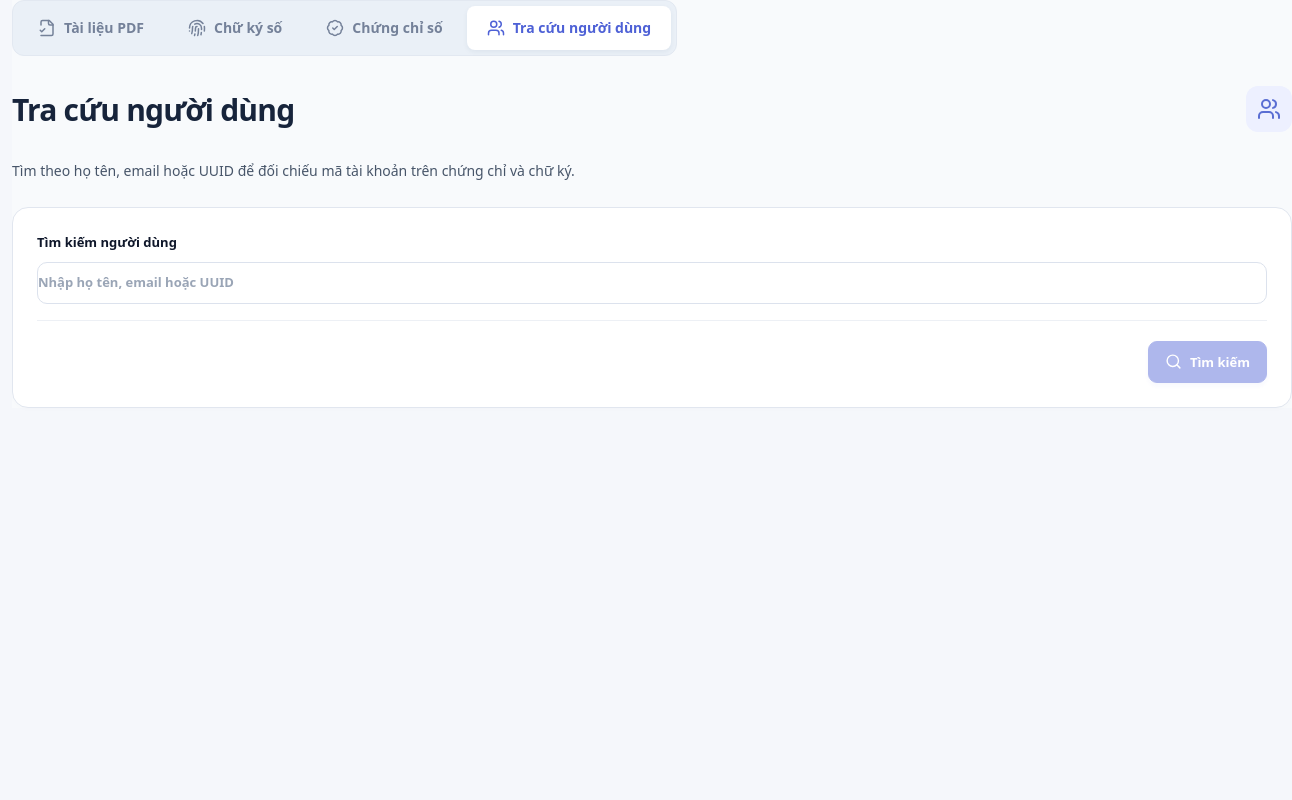
it: shows no results and allows retrying a failed request
Type "missing" into the search field labelled "Tìm kiếm người dùng" at point(652, 283), box [37,262,1267,304]
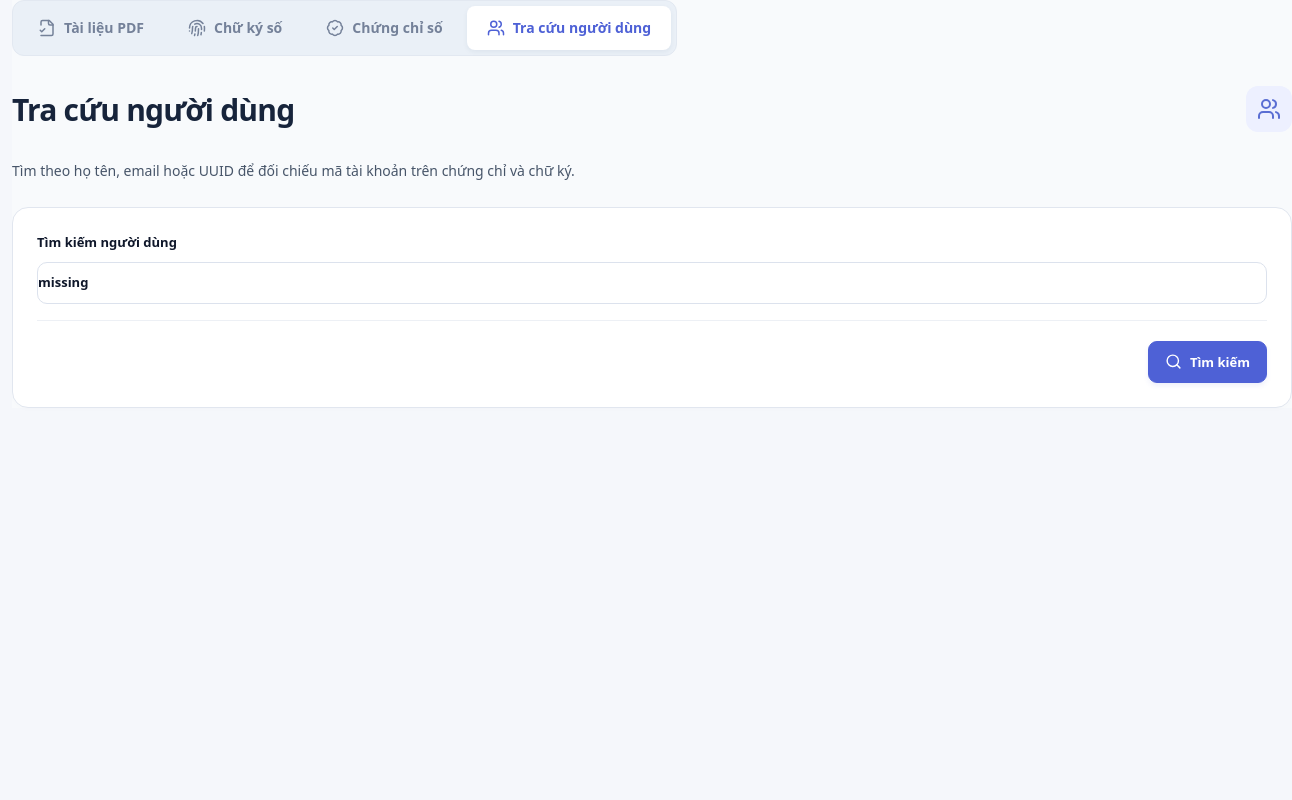
Click the button "Tìm kiếm" at point(1207, 362), box [1148,341,1267,383]
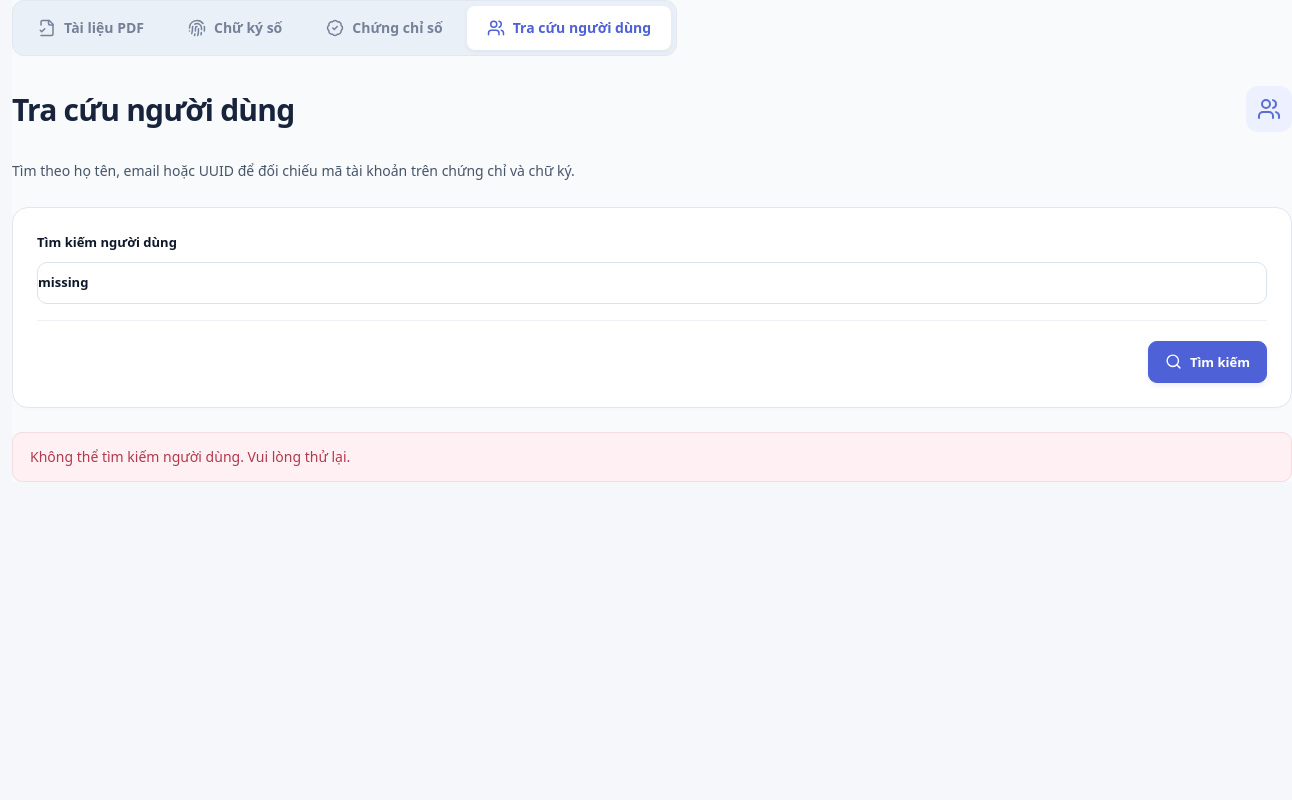
Check: the message shows "Không thể tìm kiếm", box [30,447,350,466]
Click the button "Tìm kiếm" at point(1207, 362), box [1148,341,1267,383]
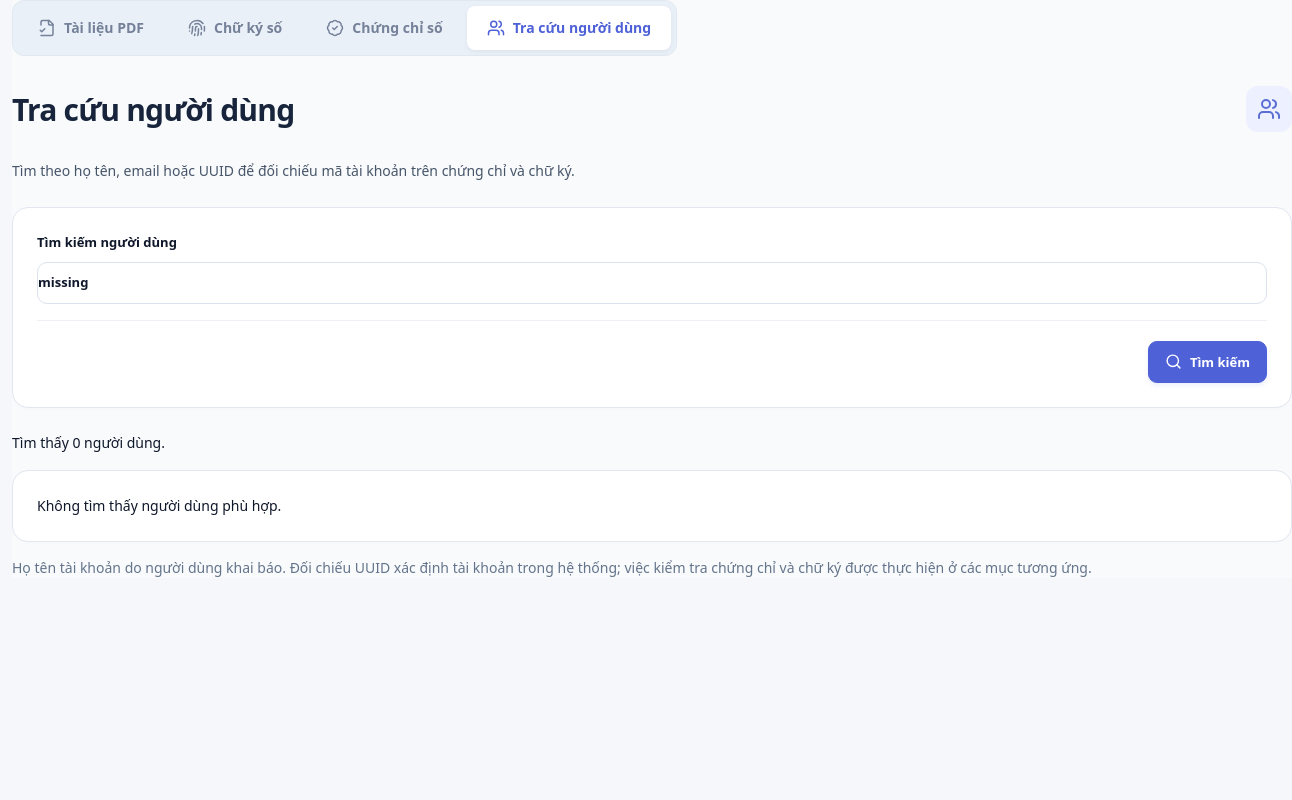
Check: the text "Không tìm thấy người dùng phù hợp." is shown, box [12,470,1291,542]
